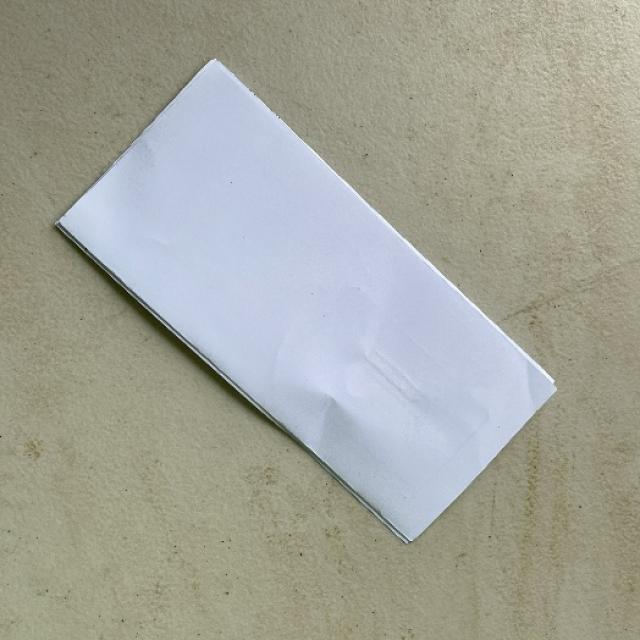paper: (54, 56, 557, 544)
